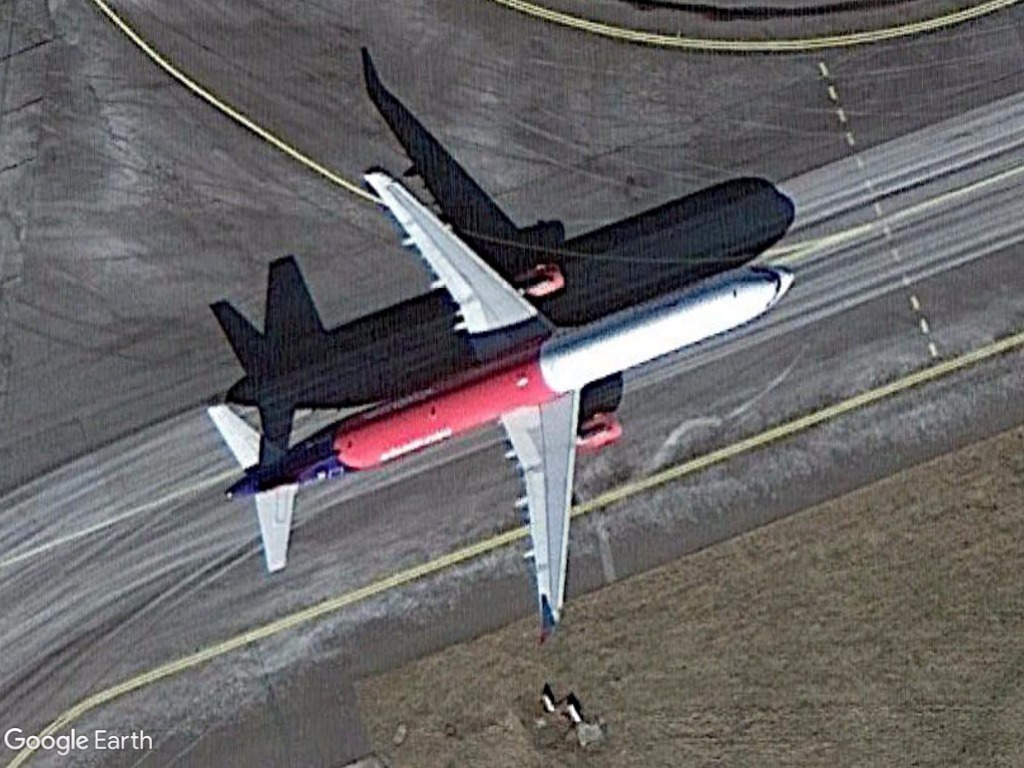airliner: (197, 160, 808, 647)
